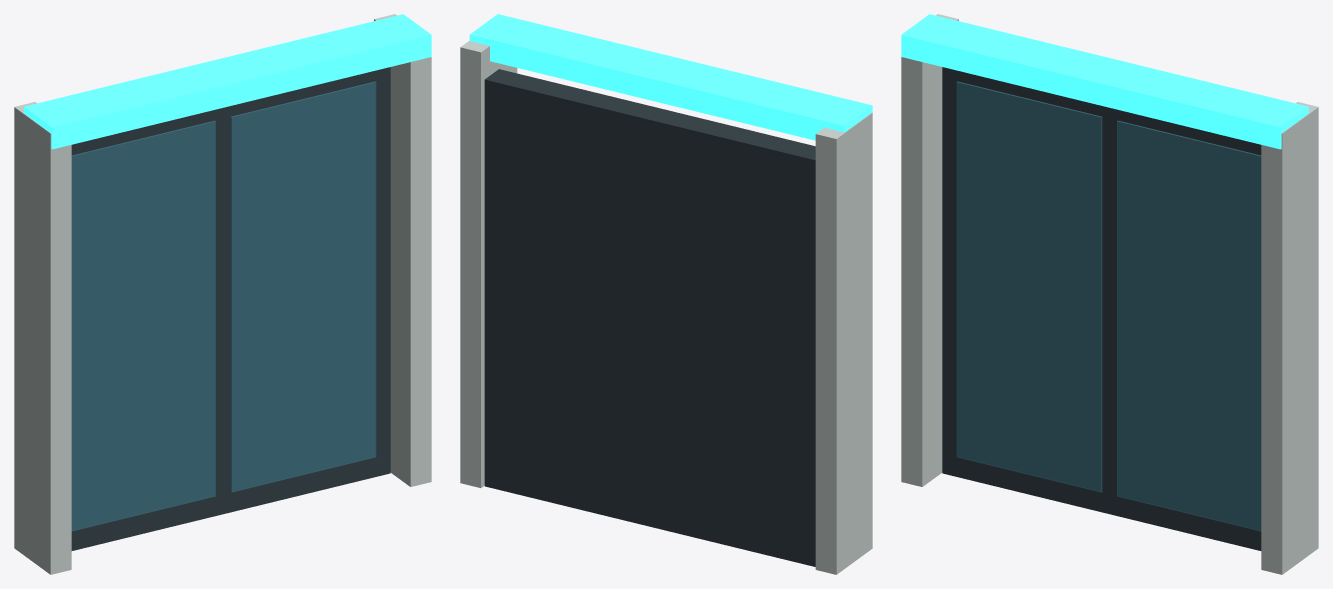
The model's file is Arch_Entry_Airlock.glb.
3 renders of one model, left to right at view 1: azimuth 30°, elevation 25°; view 2: azimuth 150°, elevation 25°; view 3: azimuth 330°, elevation 25°, orthographic.
Parts seen in each view (by area): view 1: Arch_Entry_Airlock; view 2: Arch_Entry_Airlock; view 3: Arch_Entry_Airlock.
Part boxes in pixels (x1,y1,x2,y2): Arch_Entry_Airlock: [14, 14, 431, 574]; Arch_Entry_Airlock: [460, 14, 872, 574]; Arch_Entry_Airlock: [901, 14, 1318, 574].
Bounding box in the file's own units: 2.71 × 3.05 × 0.46.
